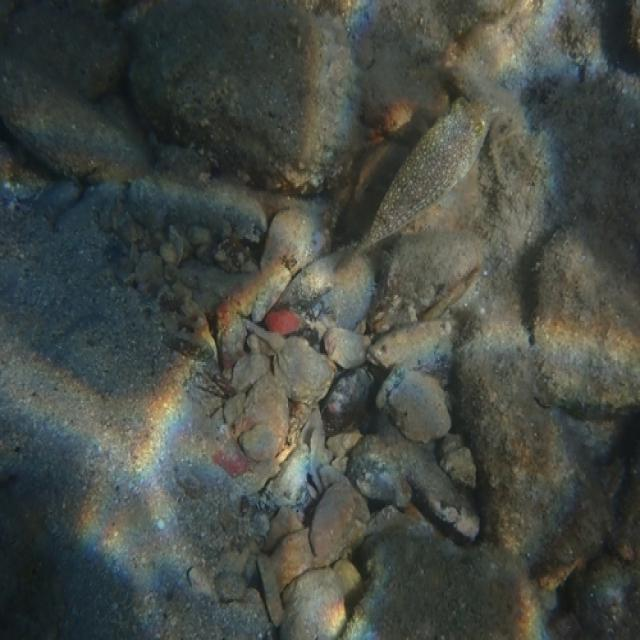Balik: (358, 98, 492, 252)
